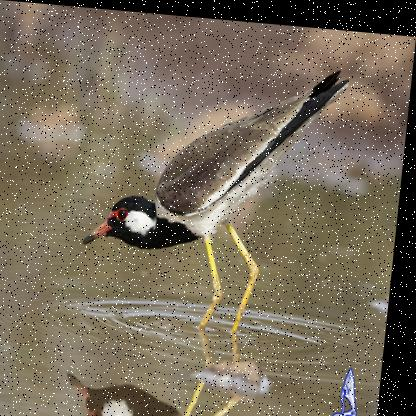Burung: (80, 45, 351, 340)
